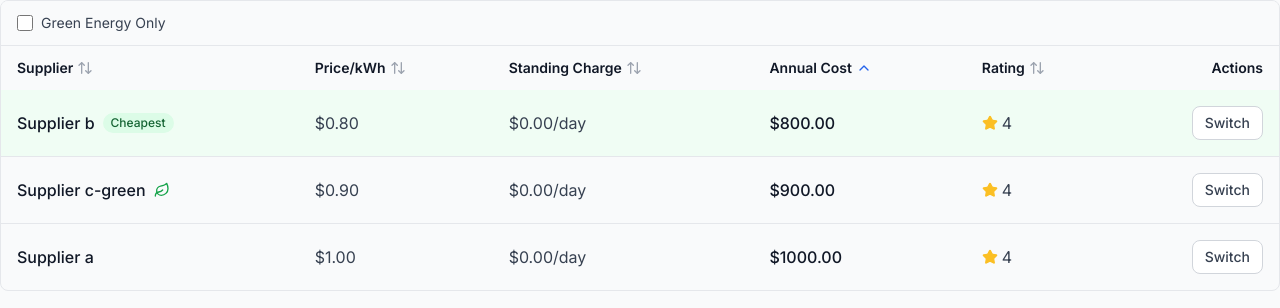
it: ComparisonTable › filters to green suppliers when green-only is checked
Step 1. Click the checkbox → (25, 23), box [17,15,33,31]
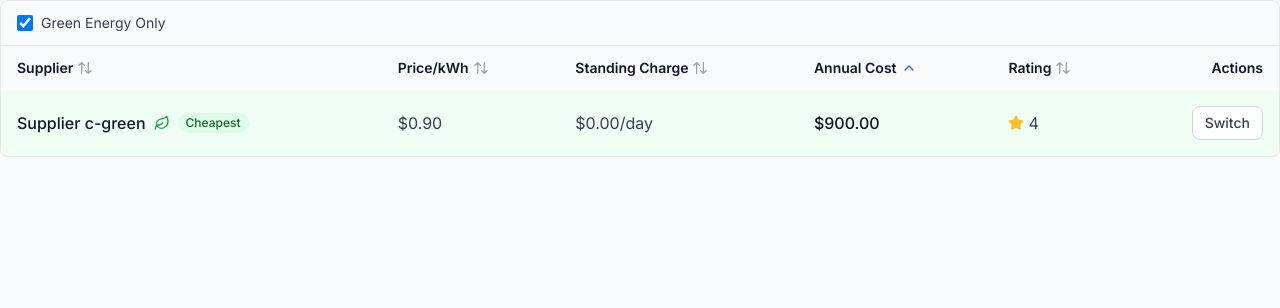
Expected: the row with test id "supplier-row-c-green" is shown, [1,90,1279,156]
Now the row with test id "supplier-row-a" is gone
